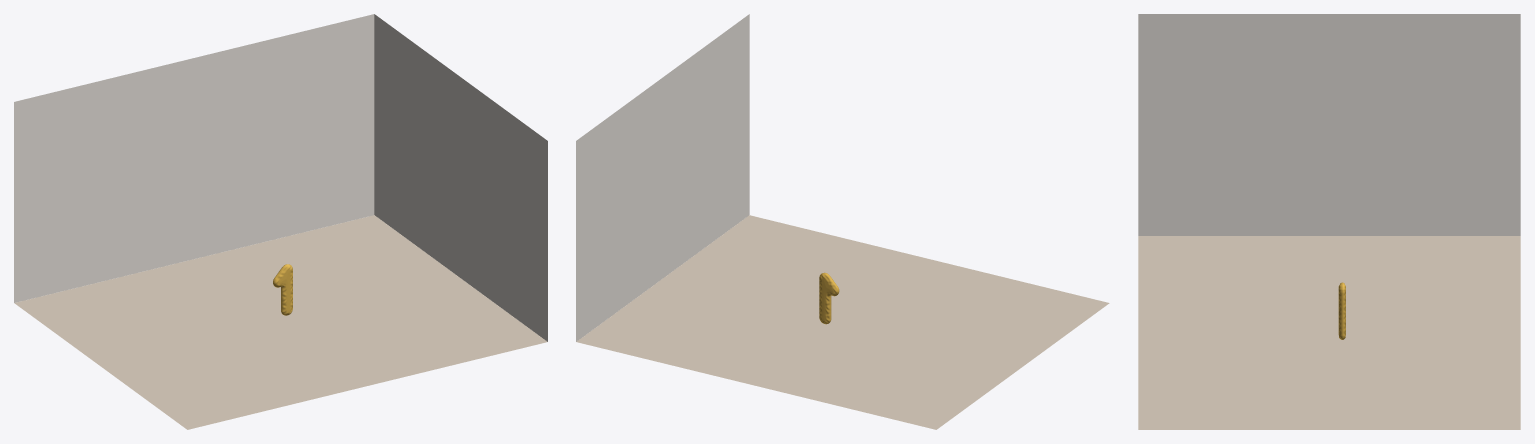
The model's file is metalizado.glb.
3 views of the same model, side by side, from view 1: azimuth 30°, elevation 25°; view 2: azimuth 150°, elevation 25°; view 3: azimuth 270°, elevation 25° (orthographic). The views are drawn at different scales.
Parts seen in each view (by area): view 1: sala, decoracion; view 2: sala, decoracion; view 3: sala, decoracion.
Boxes of the visible parts, <box> form: sala: <box>14,14,547,429</box>; decoracion: <box>273,264,292,315</box>; sala: <box>576,14,1109,429</box>; decoracion: <box>819,272,839,324</box>; sala: <box>1138,14,1520,429</box>; decoracion: <box>1338,282,1345,339</box>.
Size of the model in its own units: 6 by 3.2 by 5.
